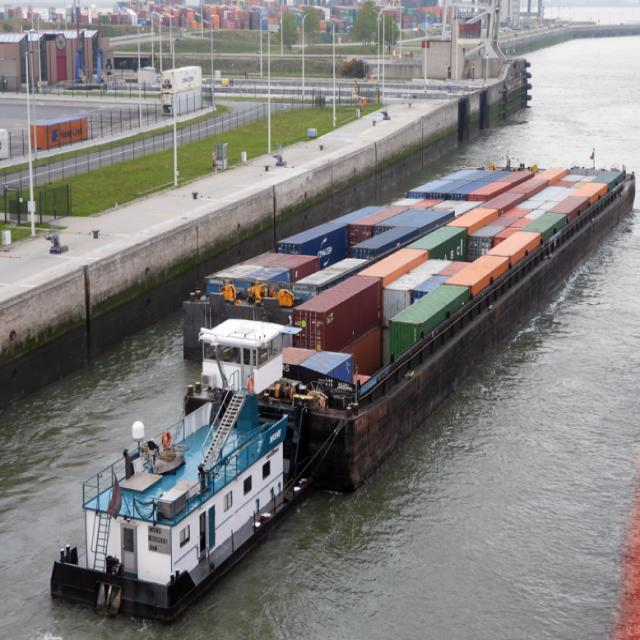tugboat: (47, 314, 324, 632)
